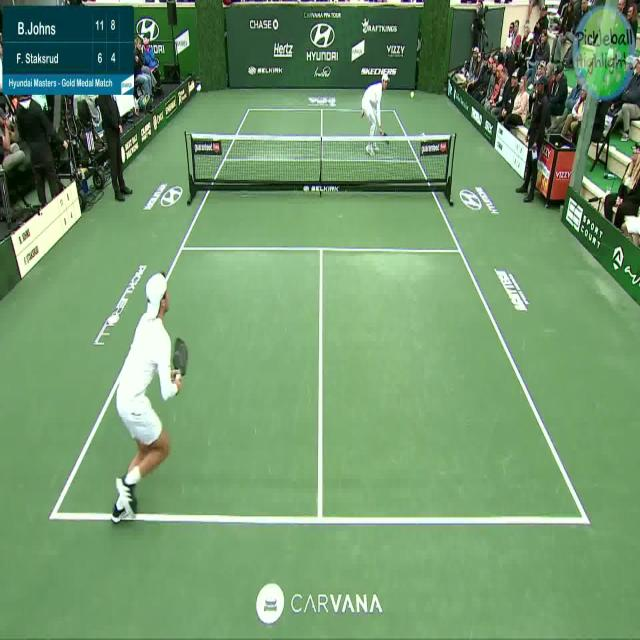ball: (408, 83, 417, 102)
